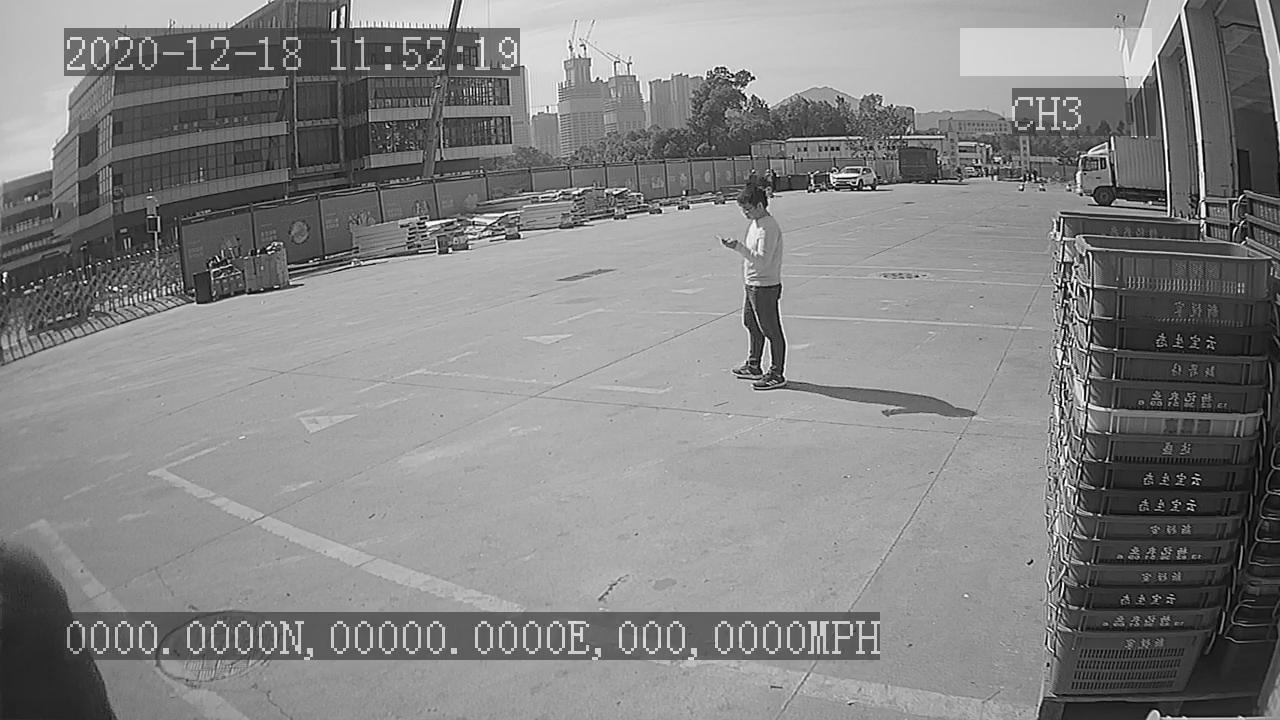person: (713, 185, 795, 399)
